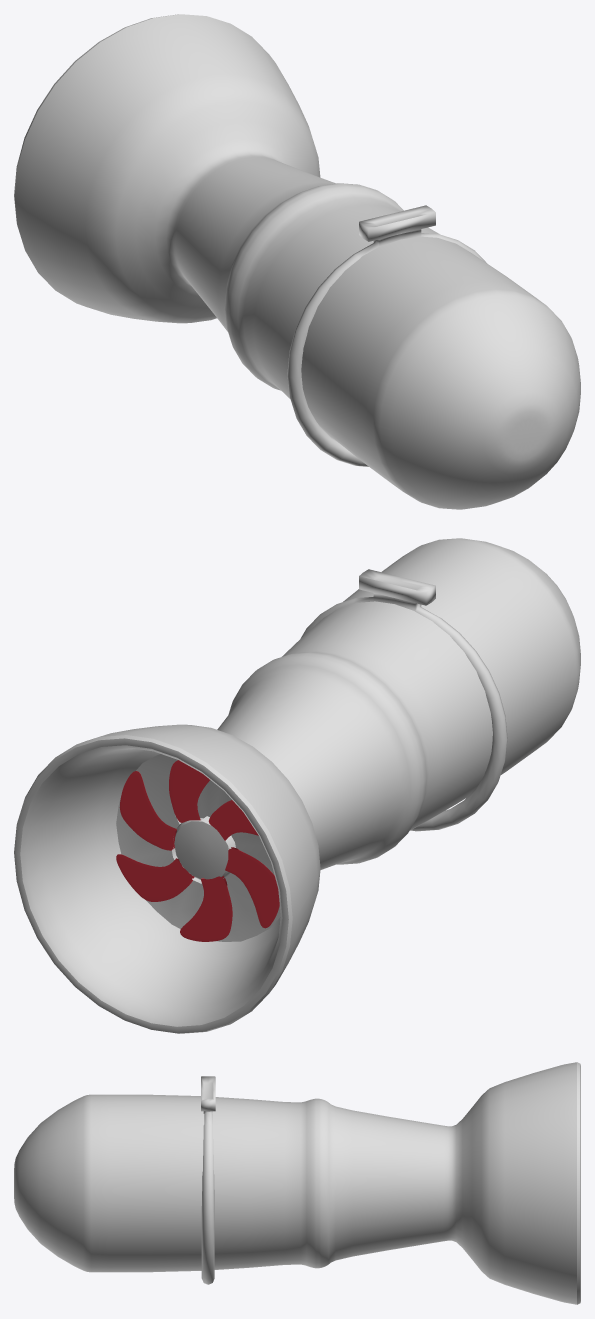
File: Silnik_001_v1.fbx
The picture shows the model from 3 angles, top to bottom: view 1: azimuth 30°, elevation 25°; view 2: azimuth 150°, elevation 25°; view 3: azimuth 270°, elevation 25°; orthographic projection. The views are drawn at different scales.
Parts seen in each view (by area): view 1: Cylinder.010, Cylinder.013; view 2: Cylinder.010, Cylinder.012, Cylinder.013, Cylinder.011; view 3: Cylinder.010, Cylinder.013.
Boxes of the visible parts, x1,y1,x2,y2 form: Cylinder.010: (14, 14, 580, 509); Cylinder.013: (287, 205, 486, 466); Cylinder.010: (14, 538, 580, 1033); Cylinder.012: (116, 760, 279, 941); Cylinder.013: (300, 569, 507, 831); Cylinder.011: (172, 816, 235, 883); Cylinder.010: (14, 1062, 580, 1304); Cylinder.013: (201, 1076, 215, 1284).
Bounding box in the file's own units: 56.83 × 56.83 × 133.
